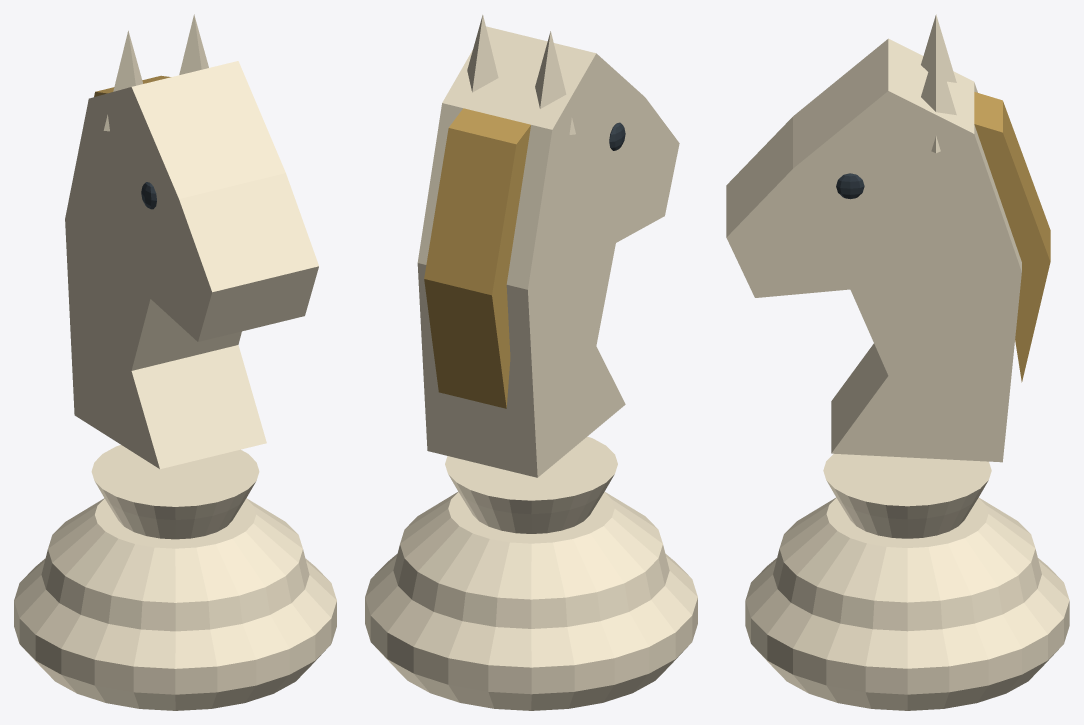
The model's file is chess-knight.glb.
The picture shows the model from 3 angles, left to right: view 1: azimuth 30°, elevation 25°; view 2: azimuth 150°, elevation 25°; view 3: azimuth 270°, elevation 25°; orthographic projection. The views are drawn at different scales.
Parts seen in each view (by area): view 1: knight; view 2: knight; view 3: knight.
Part boxes in pixels (x1,y1,x2,y2): knight: (14, 14, 336, 710); knight: (365, 14, 697, 710); knight: (726, 14, 1069, 710).
Bounding box in the file's own units: 0.034 × 0.072 × 0.036.
